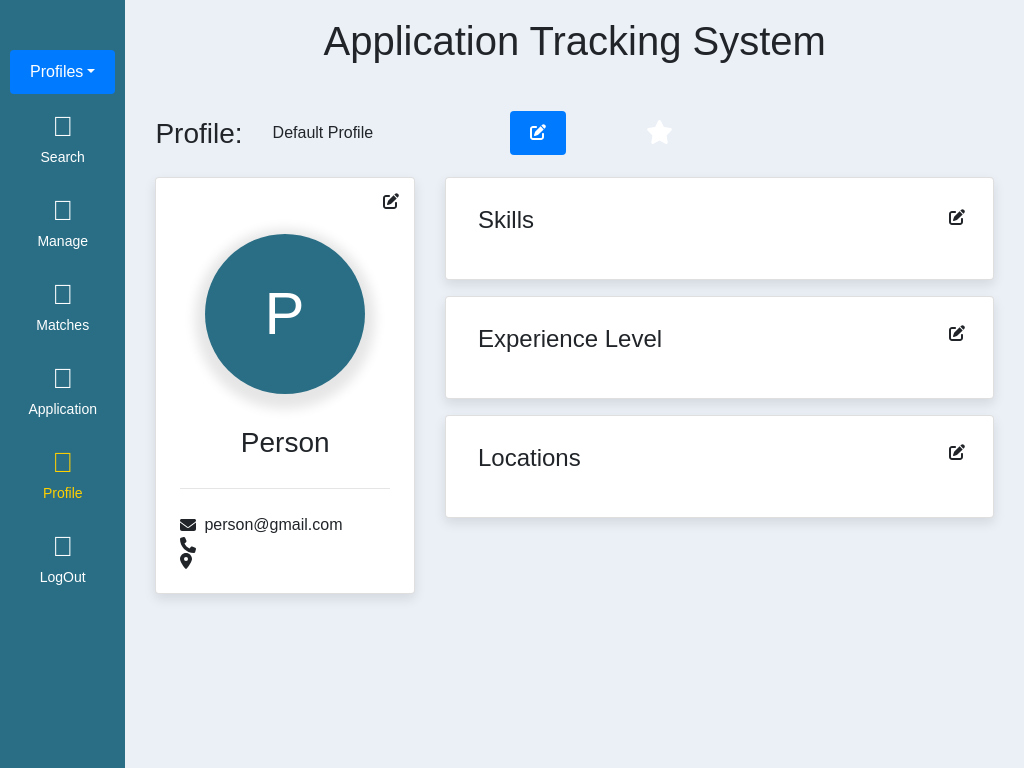
Test case: Test Multiple Profiles › When adding a new profile, it is added to the list of profile.
Click the button "Profiles" at (63,72), box x1=10 y1=50 x2=115 y2=94
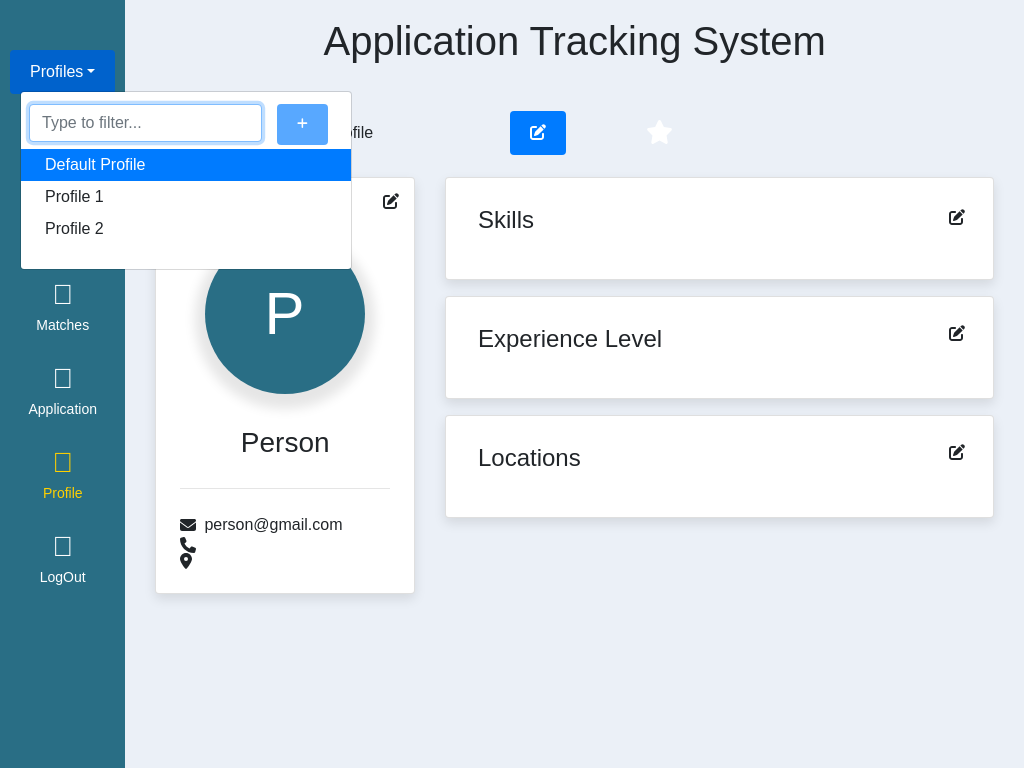
Type "Testing Profile" into the field named "newProfileName" at (146,123), box x1=29 y1=104 x2=262 y2=142
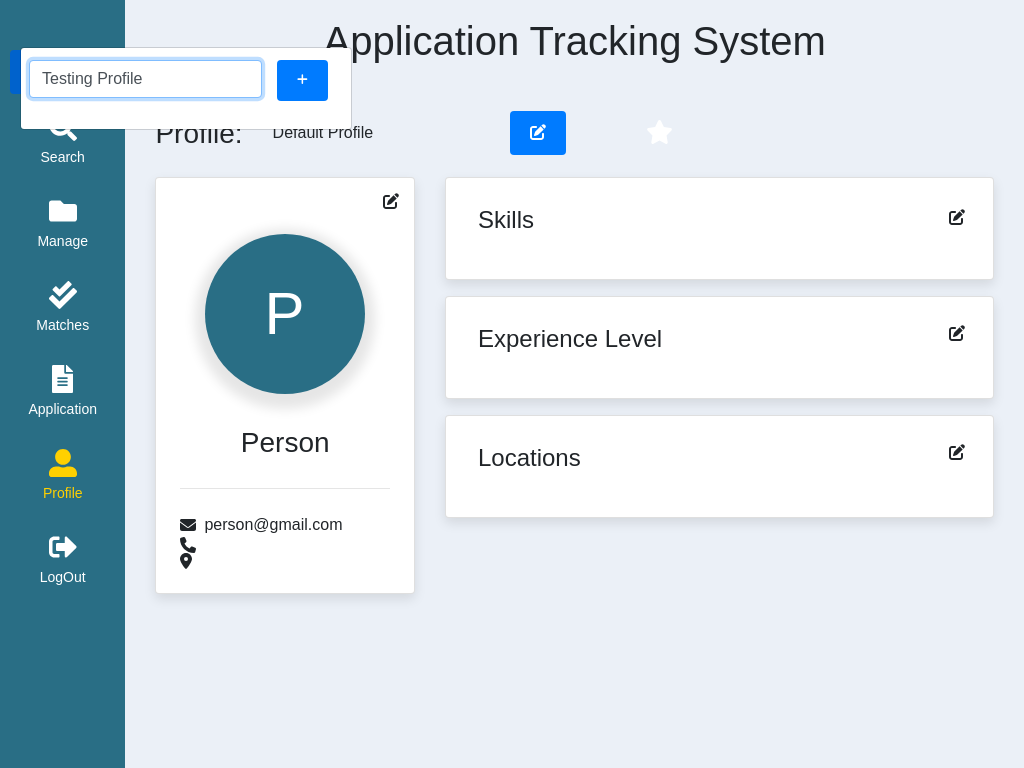
Click the button with test id "Add Profile Button" at (302,80), box x1=277 y1=60 x2=328 y2=101
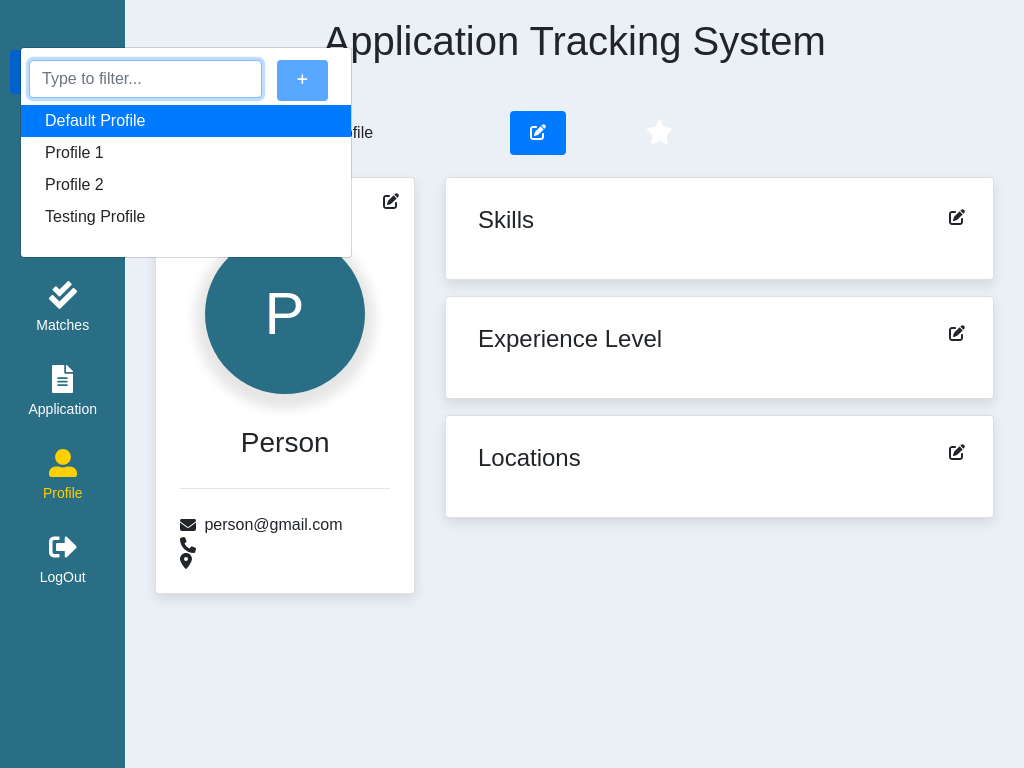
Now the button "Default Profile" is shown, box x1=21 y1=105 x2=351 y2=137
Now the button "Profile 1" is shown, box x1=45 y1=144 x2=104 y2=161
Now the button "Profile 2" is shown, box x1=45 y1=176 x2=104 y2=193
